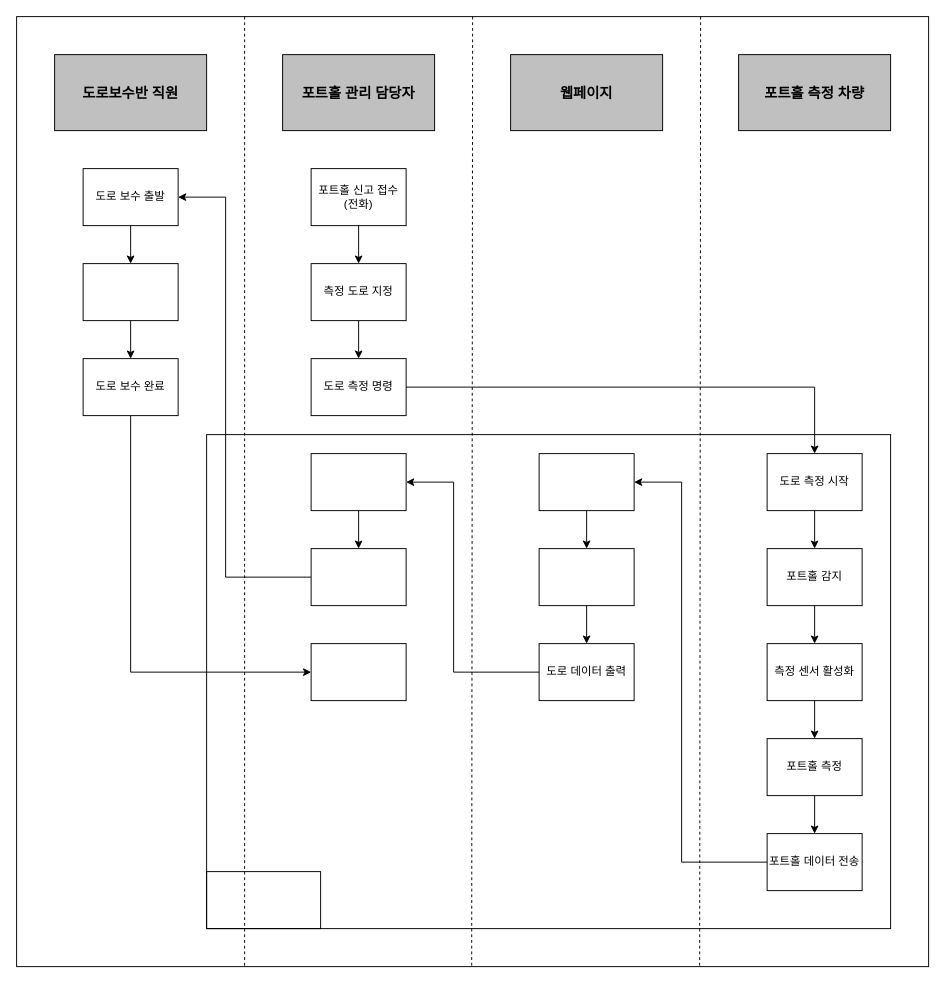
The diagram is 945 pixels wide and 984 high, and some of its shapes have lost their labels. Each missing label, with the centre of its shape:
"Hole in One Q" goes at [263,900].
"도로 데이터 수정" goes at [358,672].
"도로 데이터 조회" goes at [358,482].
"도로 보수" goes at [130,292].
"도로 보수 요청" goes at [358,577].
"도로별 위험도 분석" goes at [586,482].
"포트홀 데이터 DB 저장" goes at [586,577].
